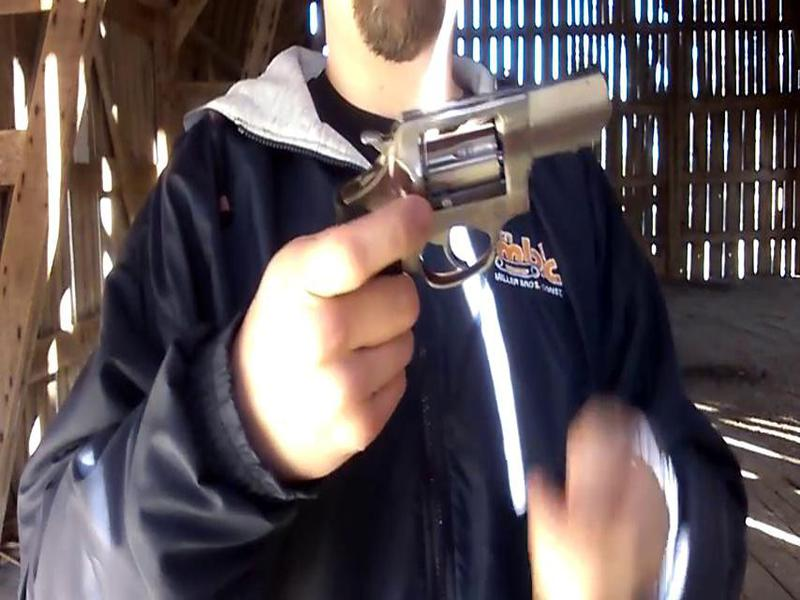Revolver: (298, 59, 606, 297)
